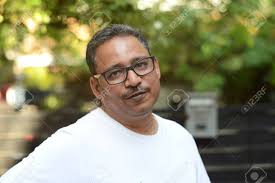Glasses: (91, 52, 163, 86)
